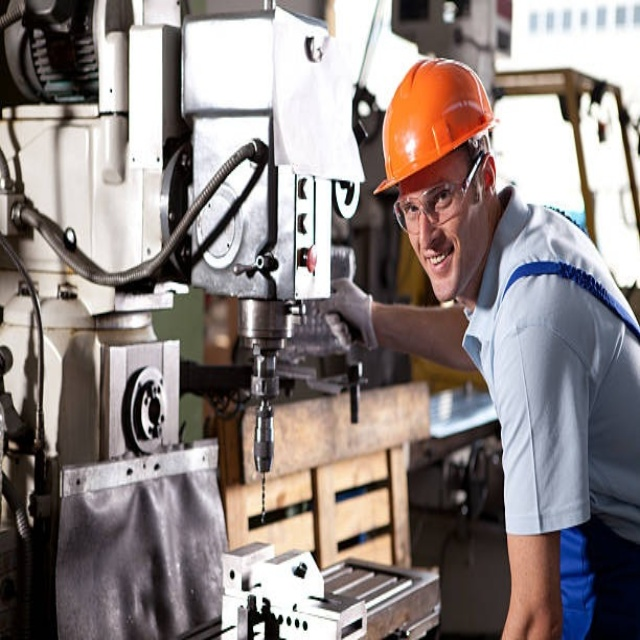Gafas: (394, 151, 486, 236)
Guantes: (326, 277, 380, 351)
Sin_mascara: (414, 242, 465, 292)
